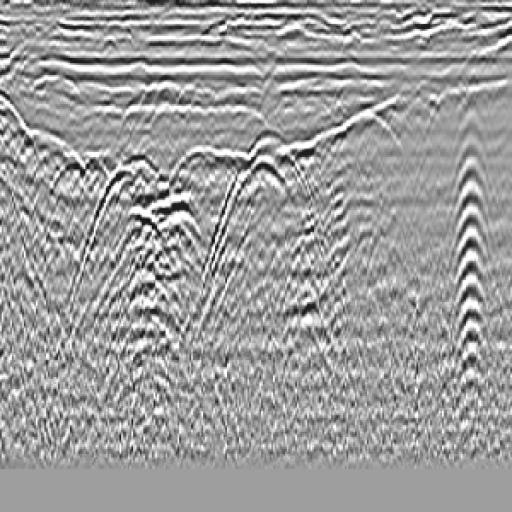metalic: (194, 124, 349, 330)
